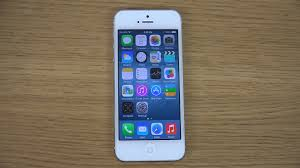iphone: (109, 6, 188, 164)
iphone5: (109, 5, 188, 163)
